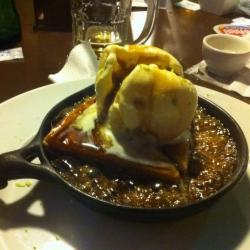apple_pie: (39, 95, 201, 183)
icecream: (92, 38, 204, 155)
